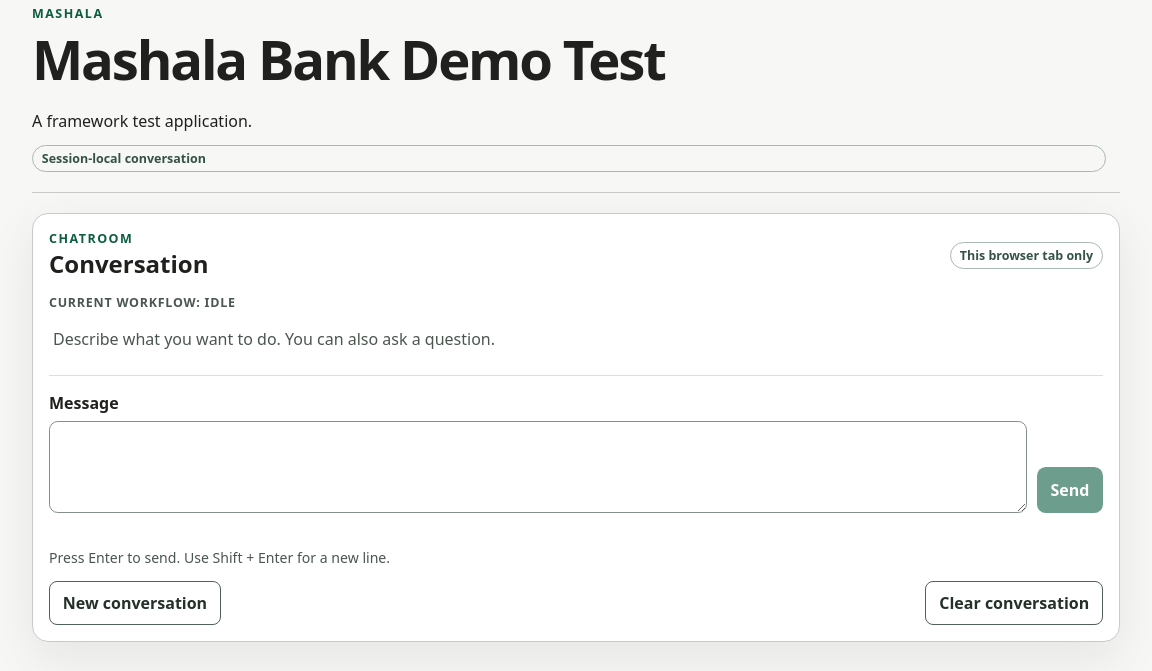
Test: MashalaChat canonical event handling › selects and renders only a capability declared by the application
In the text box labelled "Message": [538, 467] box x1=49 y1=421 x2=1026 y2=513, type "make a transfer"
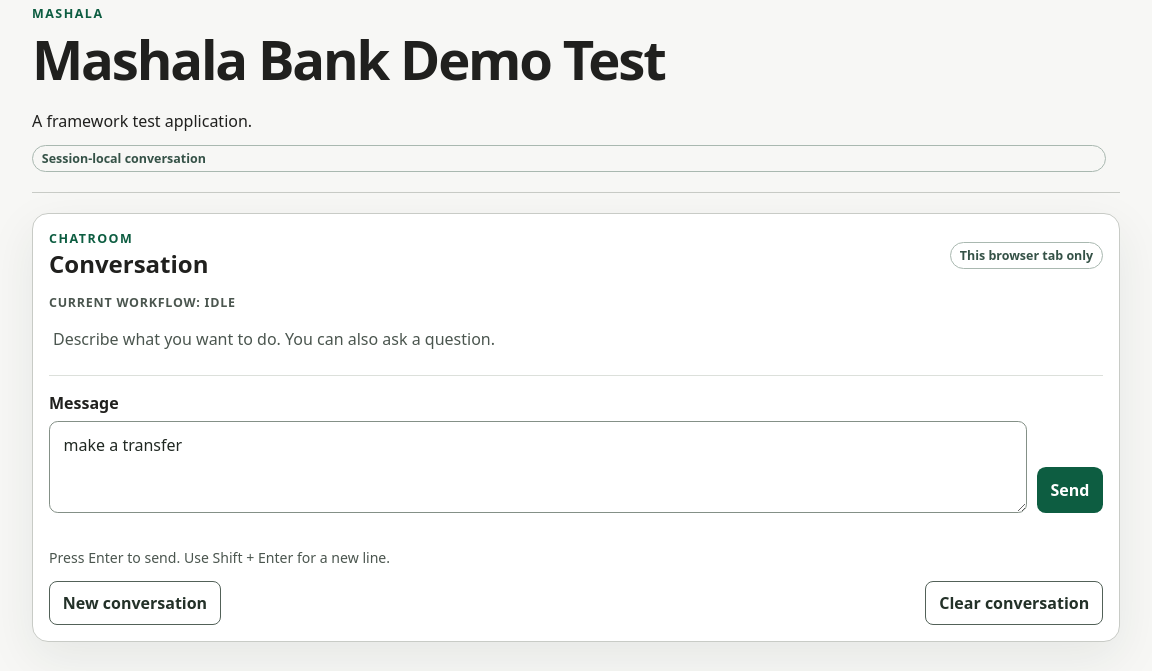
Click the button "Send": [1070, 490] box x1=1037 y1=467 x2=1103 y2=513
(page scrolled)
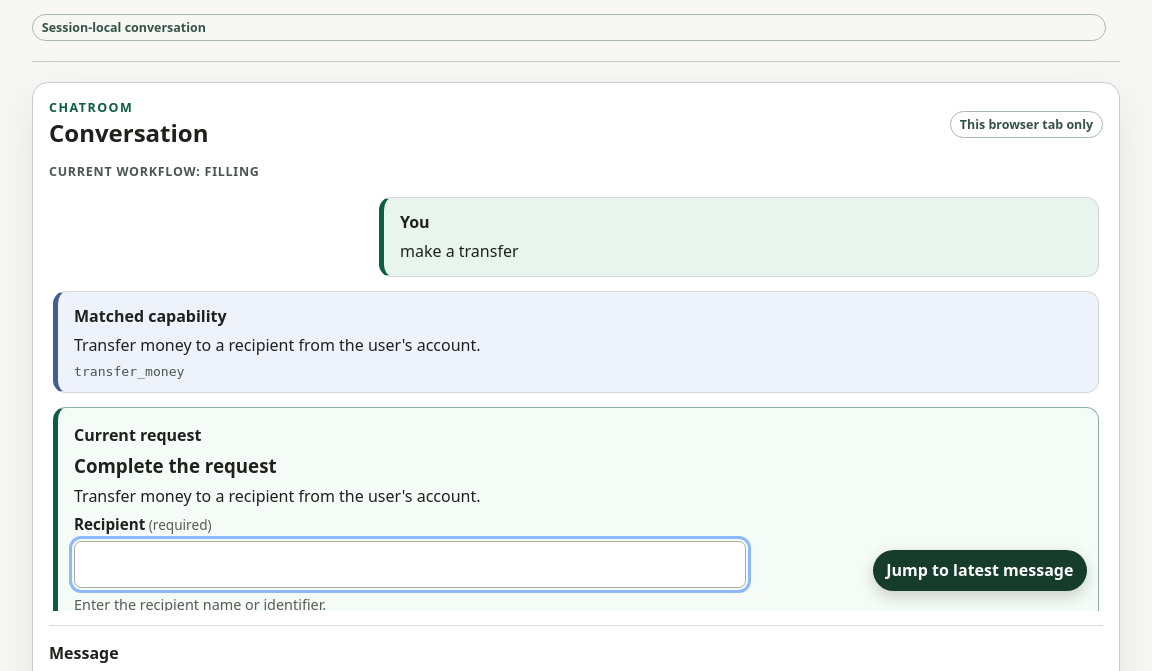
Result: the message labelled "Matched capability" shows "transfer_money" at x1=74 y1=364 x2=184 y2=378
